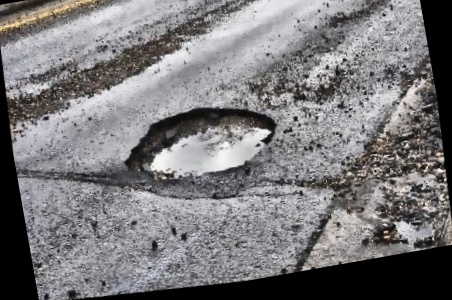pothole: (112, 86, 288, 195)
